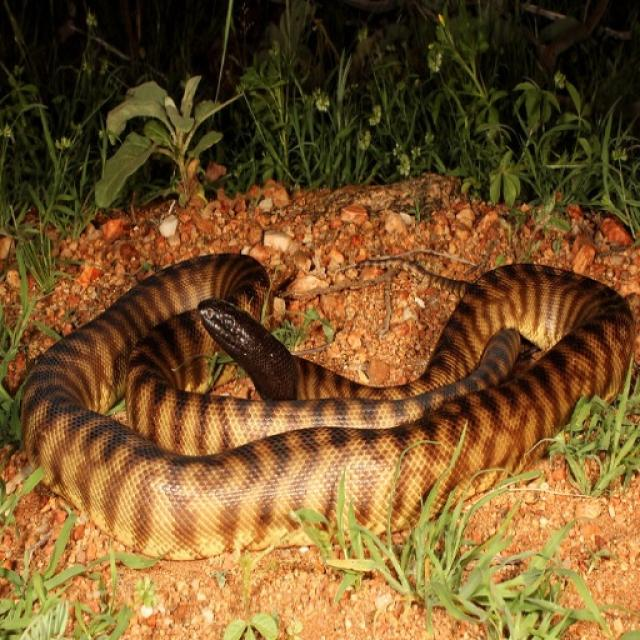snake: (9, 241, 640, 575)
